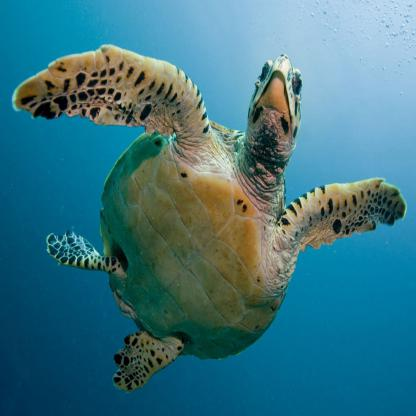turtle: (238, 43, 309, 173)
